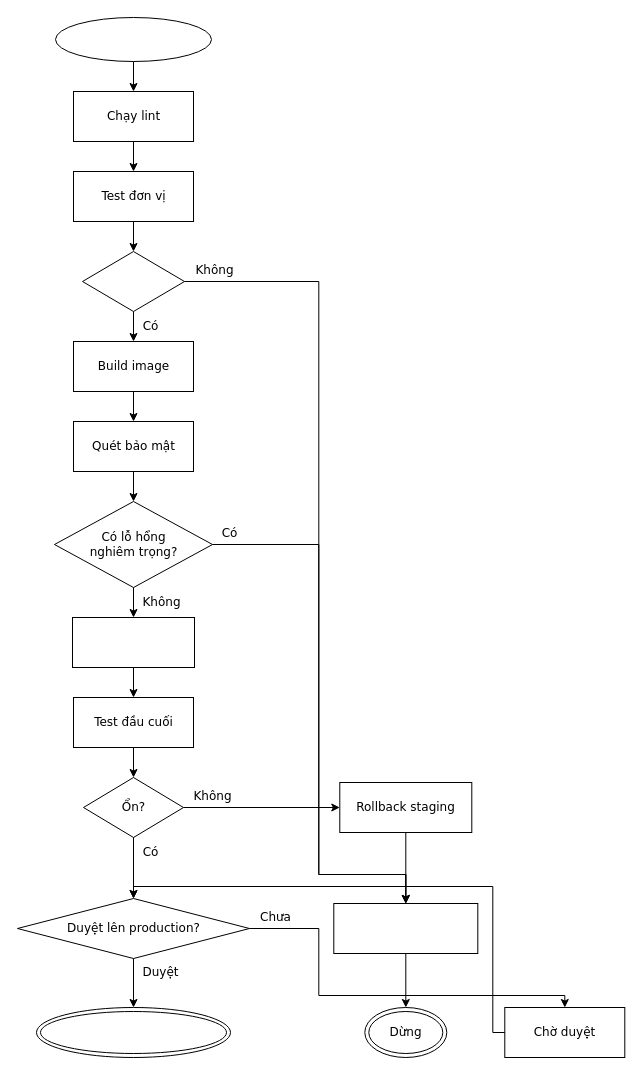
Some shapes in this 643 by 1075 pixel diagram are drawn without their labels. The shapes that lost their labels are listed below. From the top down, each one's box as (x1, y1, x2, y2) in pixels, then its label:
(54, 16, 212, 62): Push lên nhánh
(82, 250, 184, 312): Qua hết?
(72, 616, 194, 668): Deploy staging
(333, 902, 478, 954): Báo lỗi cho tác giả
(36, 1006, 230, 1058): Deploy production
